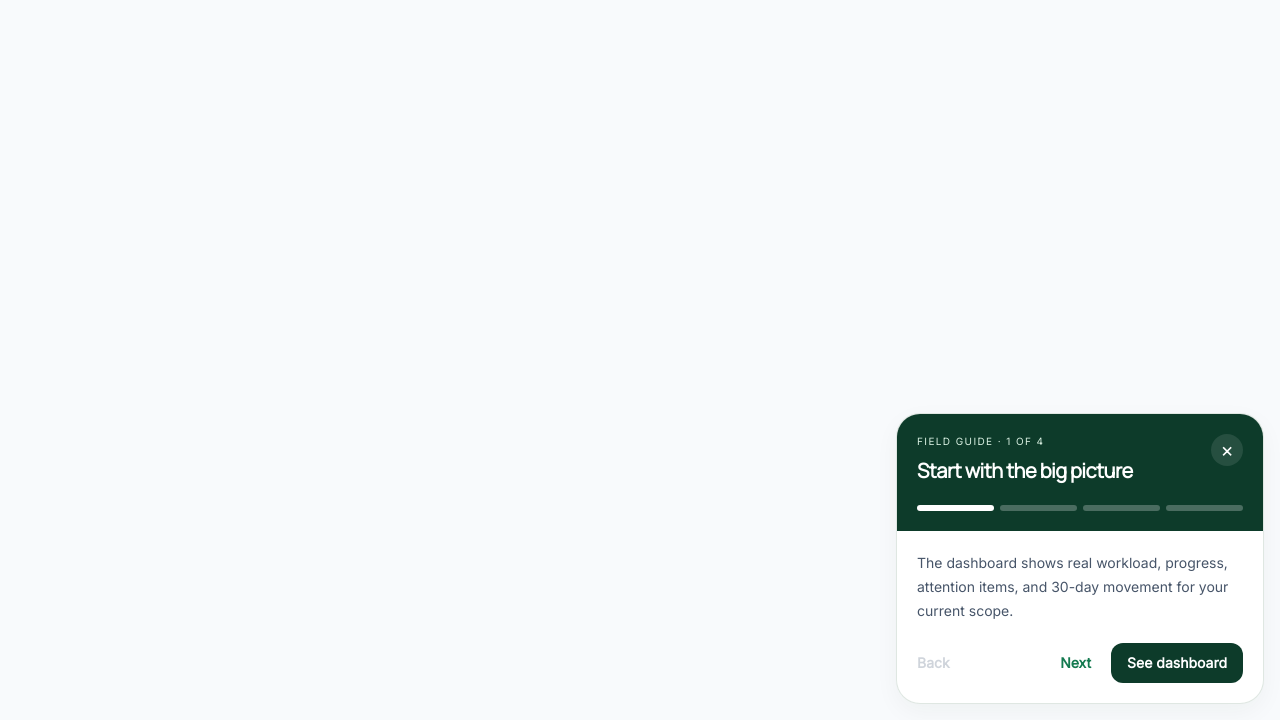
Test case: ProductGuide › does not claim task-creation access when the role cannot create
The image size is (1280, 720).
Click the button "Next".
click(1076, 663)  # box [1048,643,1103,683]
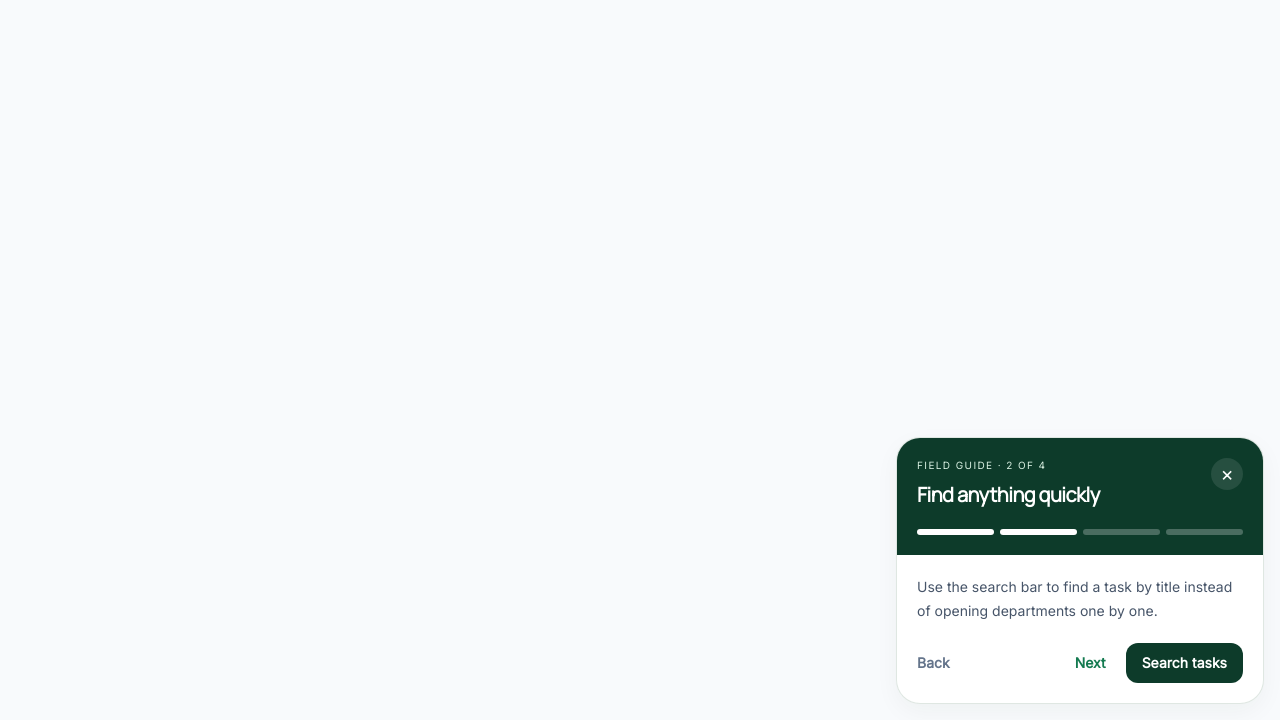
Click the button "Next".
click(1090, 663)  # box [1063,643,1118,683]
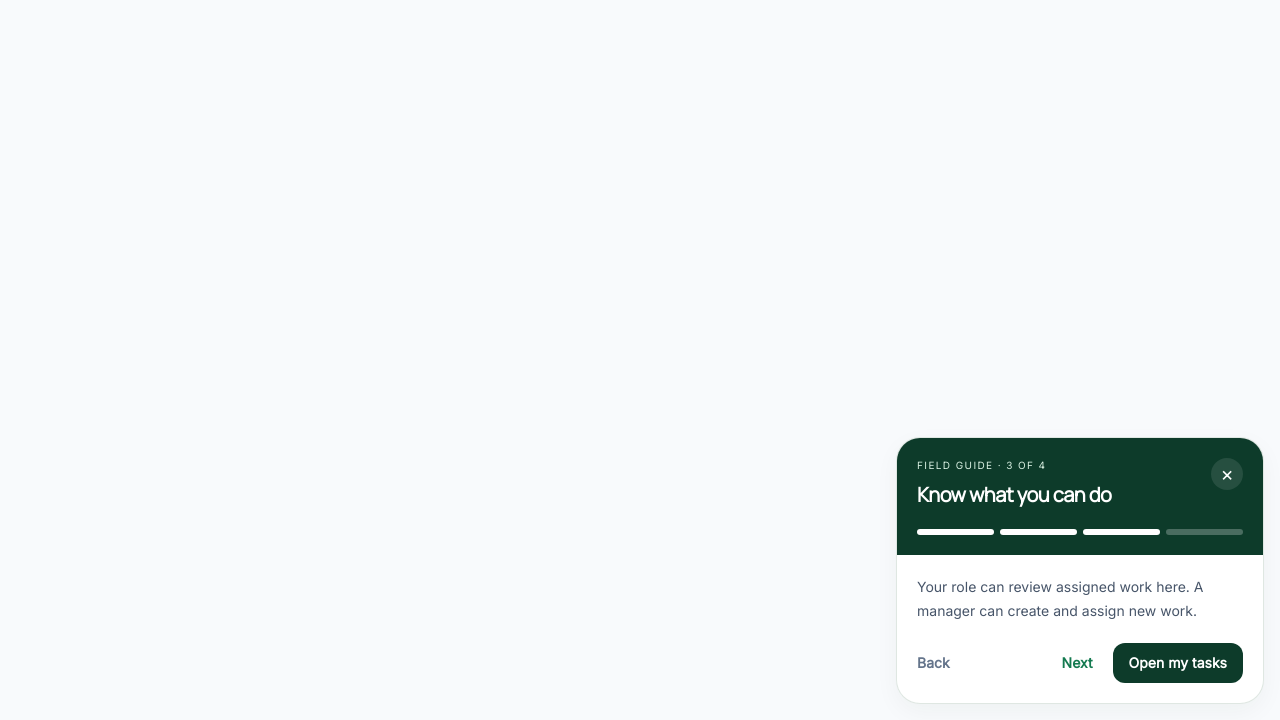
expect the link to "/my-tasks" is shown: met, box [1112,643,1243,683]
expect the text "A manager can create and assign new work." is shown: met, box [917,578,1204,619]
